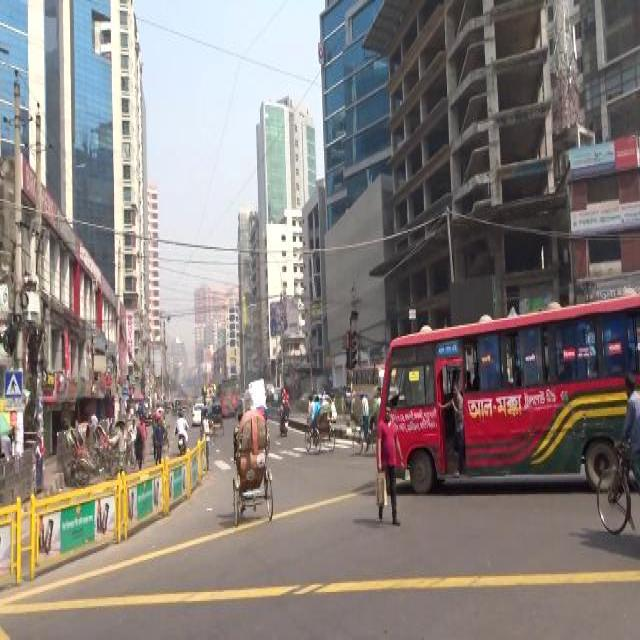bus: (375, 286, 639, 486), (216, 378, 238, 418), (202, 382, 216, 407)
car: (190, 402, 206, 426)
motorbike: (172, 408, 190, 456), (276, 384, 290, 437)
rickshaw: (595, 367, 637, 540), (230, 394, 276, 530), (71, 425, 125, 485), (352, 383, 380, 456), (302, 394, 336, 452), (111, 415, 139, 467), (212, 398, 224, 441)
